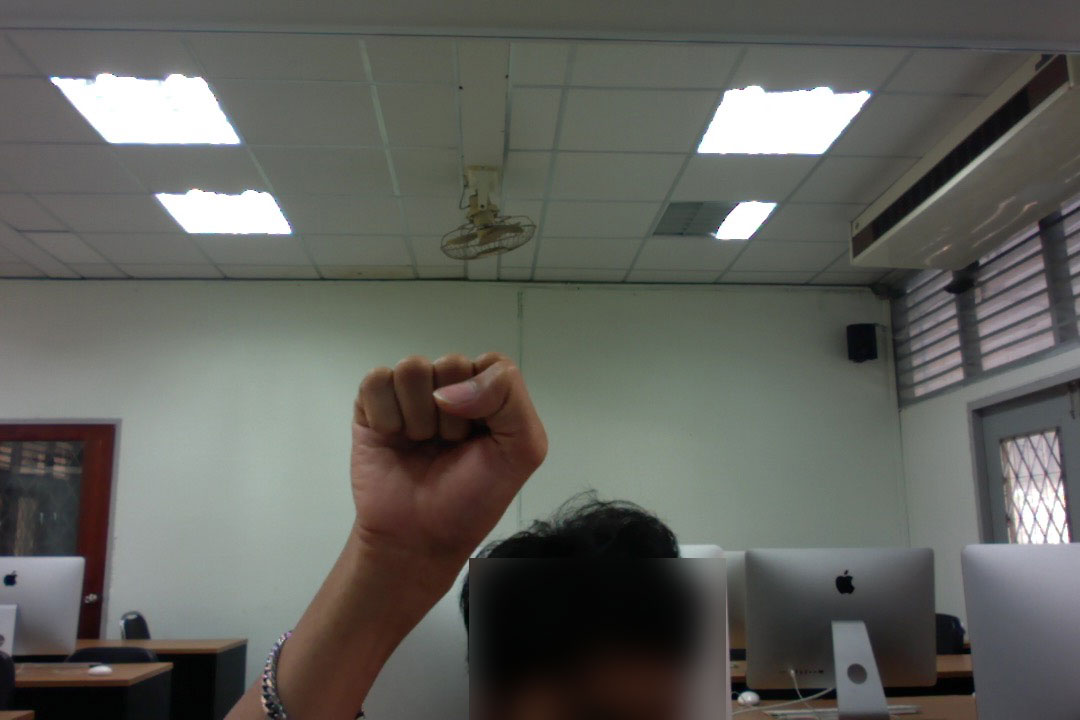sor: (341, 343, 561, 592)
